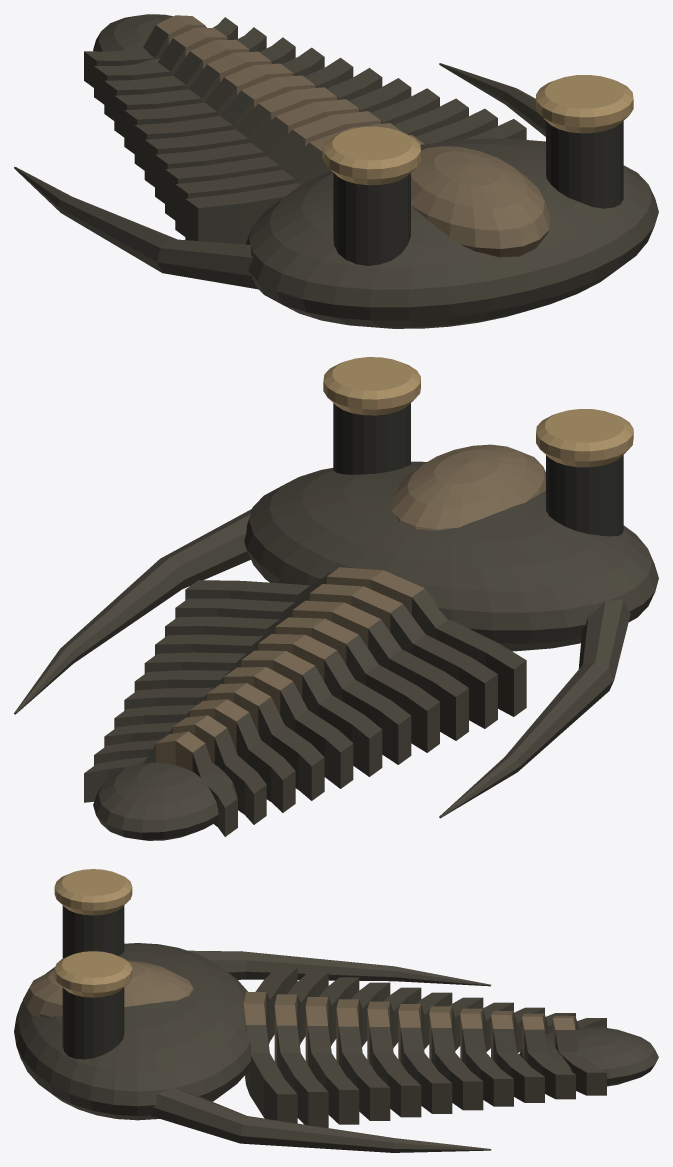
The model's file is erbenochile.glb.
3 renders of one model, top to bottom at view 1: azimuth 30°, elevation 25°; view 2: azimuth 150°, elevation 25°; view 3: azimuth 270°, elevation 25°, orthographic. The views are drawn at different scales.
Visible parts, largest first — view 1: vaulted-cephalon, central-glabella, left-eye-turret, right-eye-turret, swept-genal-spine--1, articulated-rib-02, articulated-rib-03, articulated-rib-00, articulated-rib-04, articulated-rib-01, articulated-rib-05, articulated-rib-06 (+6 smaller); view 2: vaulted-cephalon, left-eye-turret, central-glabella, right-eye-turret, articulated-rib-00, swept-genal-spine-1, articulated-rib-01, small-tapering-pygidium, articulated-rib-02, swept-genal-spine--1, articulated-rib-03, articulated-rib-04 (+6 smaller); view 3: vaulted-cephalon, swept-genal-spine-1, right-eye-turret, left-eye-turret, articulated-rib-00, articulated-rib-01, articulated-rib-02, swept-genal-spine--1, articulated-rib-03, articulated-rib-04, articulated-rib-05, small-tapering-pygidium (+6 smaller).
Part boxes in pixels (x1=…): vaulted-cephalon: x1=246, y1=138, x2=658, y2=328; central-glabella: x1=411, y1=146, x2=550, y2=257; left-eye-turret: x1=323, y1=126, x2=420, y2=265; right-eye-turret: x1=536, y1=75, x2=633, y2=208; swept-genal-spine--1: x1=14, y1=167, x2=257, y2=289; articulated-rib-02: x1=165, y1=98, x2=468, y2=220; articulated-rib-03: x1=155, y1=88, x2=439, y2=203; articulated-rib-00: x1=185, y1=119, x2=526, y2=244; articulated-rib-04: x1=144, y1=78, x2=411, y2=187; articulated-rib-01: x1=175, y1=108, x2=497, y2=236; articulated-rib-05: x1=134, y1=68, x2=382, y2=170; articulated-rib-06: x1=124, y1=57, x2=353, y2=153; vaulted-cephalon: x1=244, y1=461, x2=658, y2=651; left-eye-turret: x1=536, y1=409, x2=633, y2=536; central-glabella: x1=391, y1=444, x2=545, y2=530; right-eye-turret: x1=323, y1=357, x2=420, y2=474; articulated-rib-00: x1=185, y1=567, x2=526, y2=716; swept-genal-spine-1: x1=14, y1=509, x2=251, y2=714; articulated-rib-01: x1=175, y1=584, x2=497, y2=728; small-tapering-pygidium: x1=93, y1=761, x2=236, y2=840; articulated-rib-02: x1=165, y1=600, x2=468, y2=740; swept-genal-spine--1: x1=439, y1=598, x2=630, y2=818; articulated-rib-03: x1=155, y1=617, x2=439, y2=752; articulated-rib-04: x1=144, y1=634, x2=411, y2=764; vaulted-cephalon: x1=14, y1=943, x2=251, y2=1120; swept-genal-spine-1: x1=151, y1=1087, x2=491, y2=1152; right-eye-turret: x1=54, y1=951, x2=132, y2=1059; left-eye-turret: x1=54, y1=869, x2=132, y2=958; articulated-rib-00: x1=243, y1=967, x2=297, y2=1123; articulated-rib-01: x1=274, y1=972, x2=328, y2=1127; articulated-rib-02: x1=305, y1=977, x2=359, y2=1124; swept-genal-spine--1: x1=188, y1=950, x2=490, y2=986; articulated-rib-03: x1=336, y1=982, x2=390, y2=1120; articulated-rib-04: x1=367, y1=987, x2=421, y2=1117; articulated-rib-05: x1=398, y1=992, x2=452, y2=1113; small-tapering-pygidium: x1=519, y1=1026, x2=658, y2=1086.
Bounding box in the file's own units: 0.0478 × 0.0195 × 0.073.
